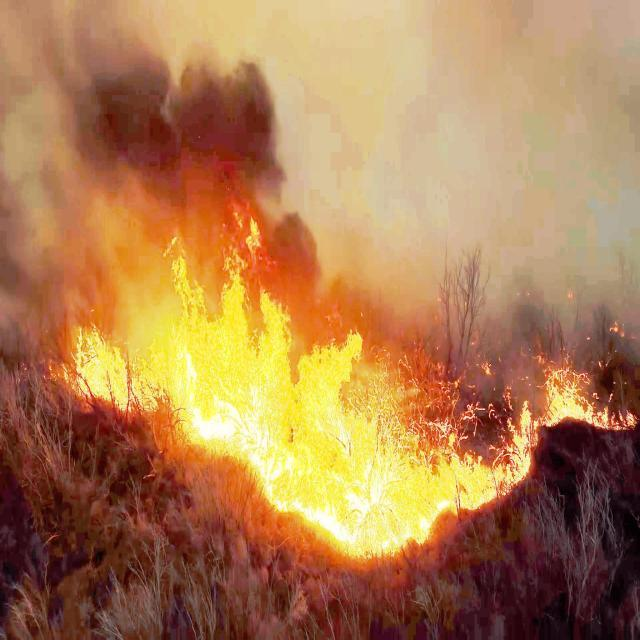Fire: (169, 220, 285, 470), (266, 322, 368, 514), (351, 381, 448, 552), (456, 406, 532, 498), (72, 322, 134, 414), (544, 365, 620, 436)
Smoke: (0, 0, 290, 189)
